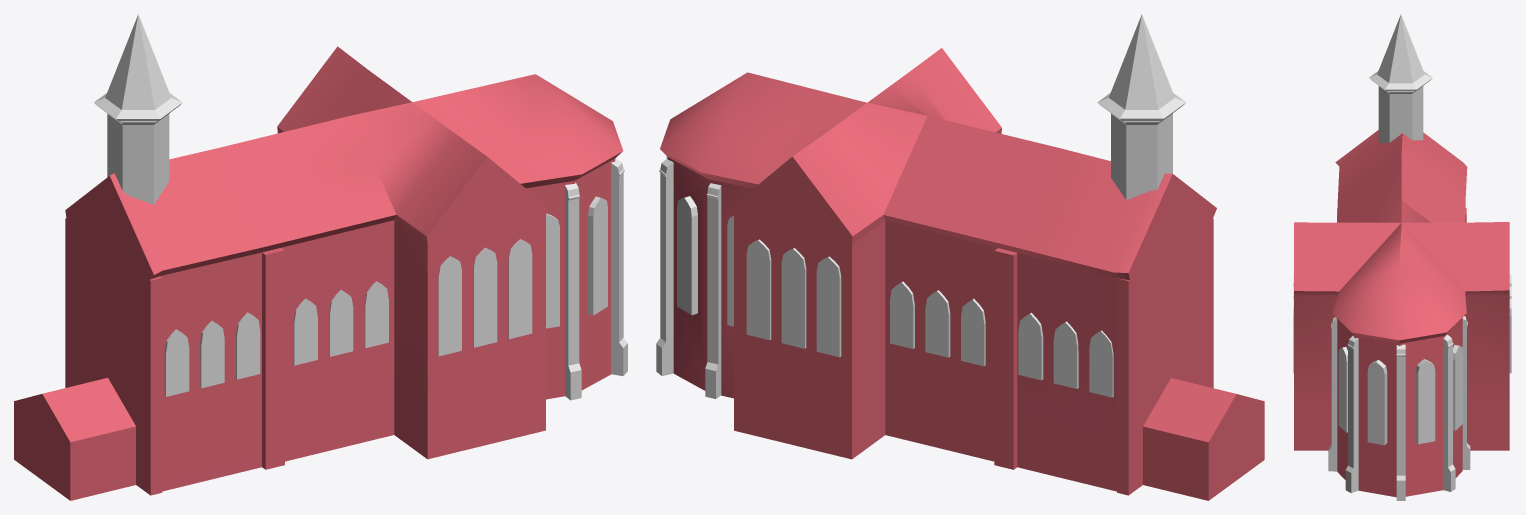
The model's file is church.glb.
3 renders of one model, left to right at view 1: azimuth 30°, elevation 25°; view 2: azimuth 150°, elevation 25°; view 3: azimuth 270°, elevation 25°, orthographic. The views are drawn at different scales.
Parts seen in each view (by area): view 1: Body, Tower, Windows1.001, Windows, SupportBeams, WindowsRound; view 2: Body, Windows1.001, Tower, Windows1, SupportBeams, WindowsRound; view 3: Body, SupportBeams, WindowsRound, Tower, Windows1.
Part boxes in pixels (x1,y1,x2,y2): Body: [14, 46, 623, 500]; Tower: [94, 14, 182, 204]; Windows1.001: [164, 281, 388, 396]; Windows: [438, 239, 532, 356]; SupportBeams: [565, 158, 627, 400]; WindowsRound: [546, 196, 607, 328]; Body: [660, 48, 1264, 500]; Windows1.001: [890, 281, 1113, 397]; Tower: [1097, 14, 1185, 199]; Windows1: [746, 239, 841, 357]; SupportBeams: [656, 156, 721, 398]; WindowsRound: [677, 196, 733, 326]; Body: [1294, 130, 1509, 497]; SupportBeams: [1328, 316, 1470, 500]; WindowsRound: [1338, 345, 1463, 445]; Tower: [1369, 14, 1432, 143]; Windows1: [1509, 274, 1511, 373].
Bounding box in the file's own units: 42.74 × 31.63 × 19.59.
